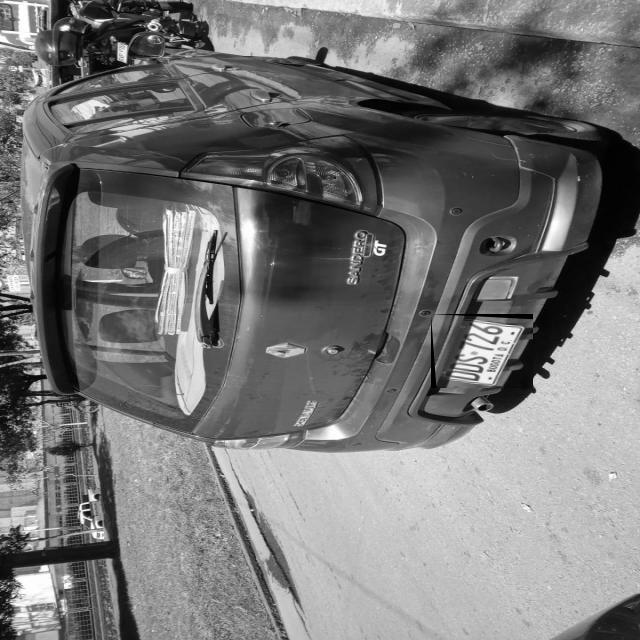plate: (435, 315, 533, 388)
